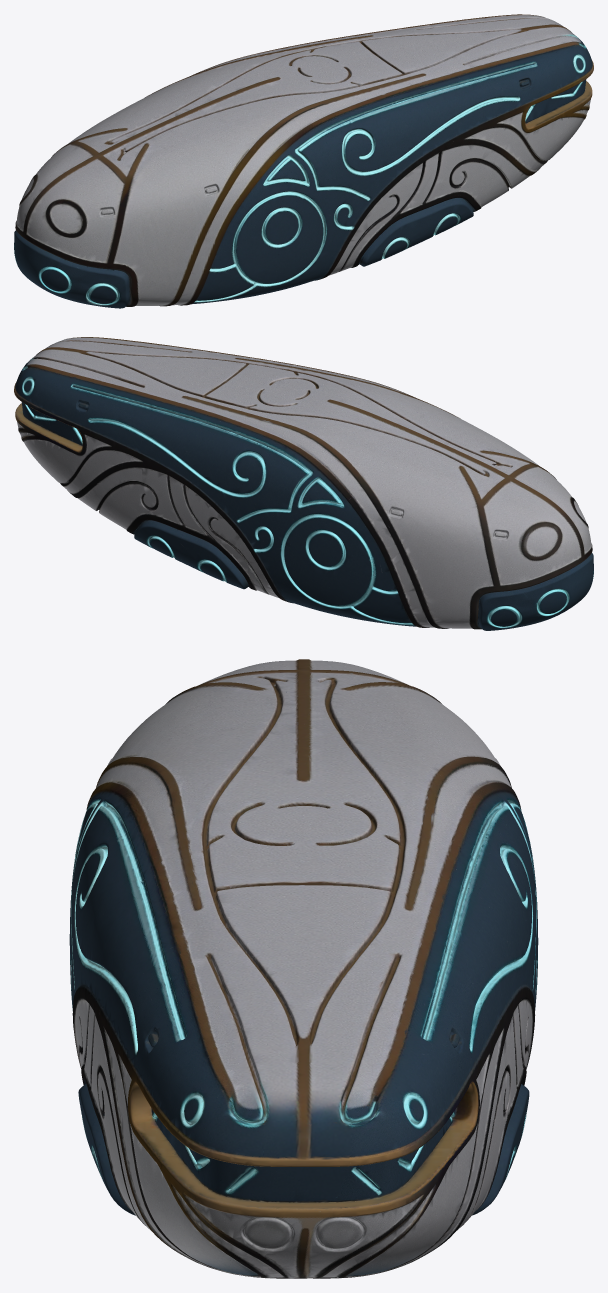
File: starpod_pod_v6.glb
The picture shows the model from 3 angles, top to bottom: view 1: azimuth 30°, elevation 25°; view 2: azimuth 150°, elevation 25°; view 3: azimuth 270°, elevation 25°; orthographic projection. The views are drawn at different scales.
Size of the model in its own units: 1.9 by 0.5814 by 0.6942.
1 material, 1 textured.
